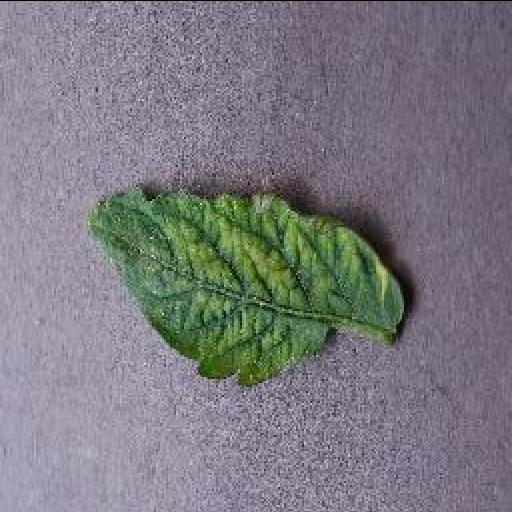disease_tomato: (86, 180, 406, 384)
